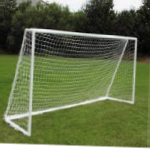goals: (2, 26, 138, 137)
